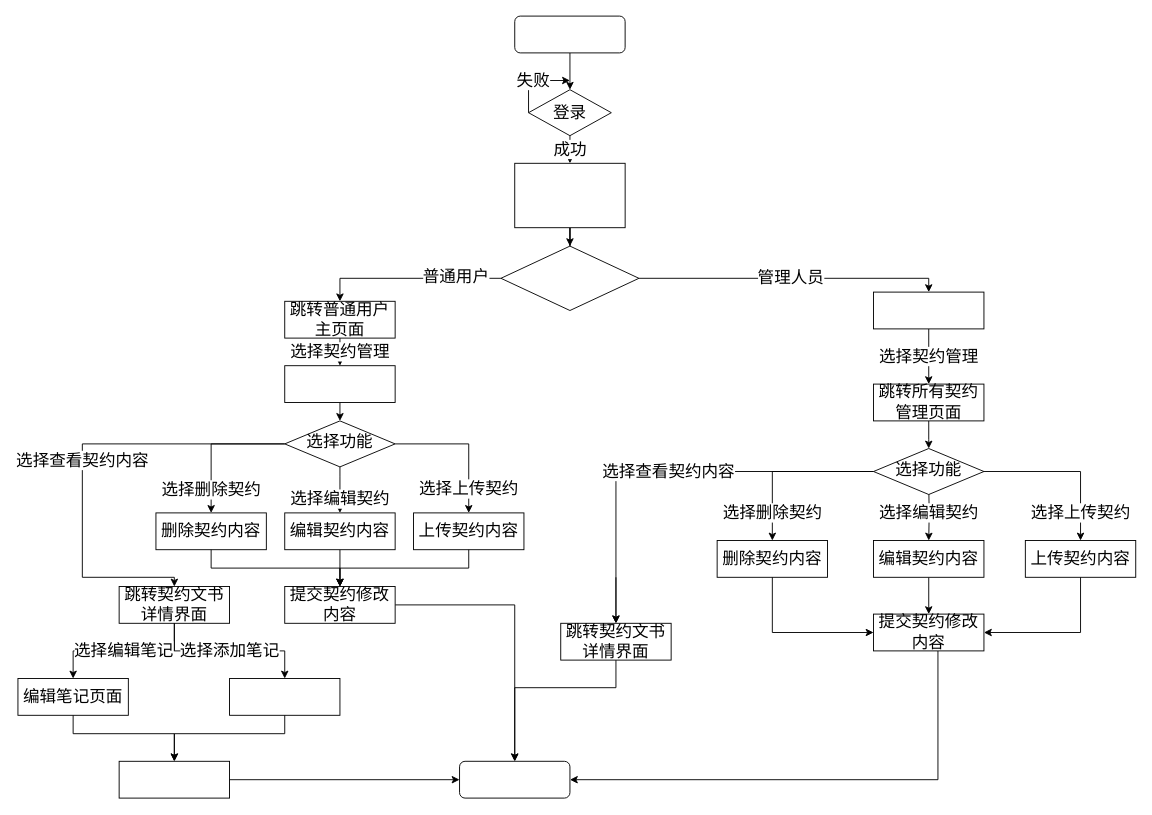
Image size: 1152x815. Some labels were removed from this diagram. The shapes that lost their labels are listed below. From the top down, each one's box as (x1, y1, x2, y2) in pixels, then its label:
(514, 15, 625, 53): 开始
(514, 162, 625, 228): 将token添加到header供拦截器识别
(500, 245, 639, 310): 判断用户种类
(873, 291, 984, 329): 跳转管理人员主页面
(284, 365, 395, 402): 跳转个人契约管理页面
(229, 678, 340, 715): 添加笔记页面
(118, 760, 230, 798): 提交笔记修改内容
(459, 760, 570, 798): 结束
